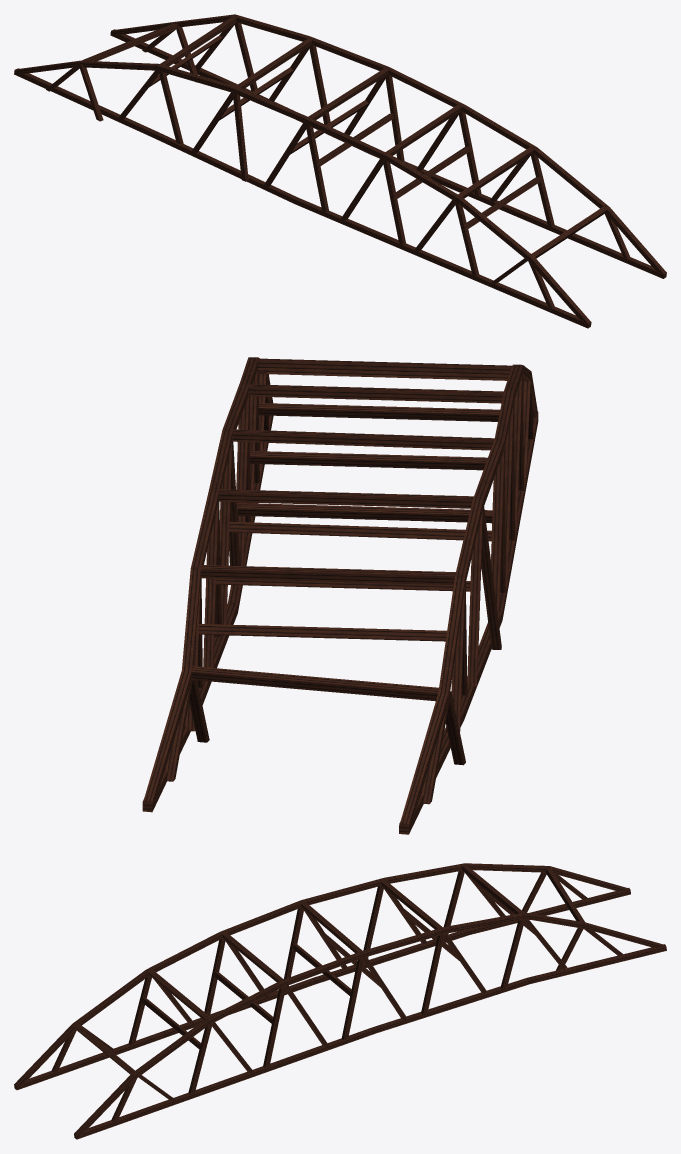
Rendered from tunnel_1.fbx.
3 views of the same model, one above another, from view 1: azimuth 30°, elevation 25°; view 2: azimuth 150°, elevation 25°; view 3: azimuth 270°, elevation 25° (orthographic). The views are drawn at different scales.
Visible parts, largest first — view 1: S2_MetalBridge; view 2: S2_MetalBridge; view 3: S2_MetalBridge.
Boxes of the visible parts, <box> form: S2_MetalBridge: <box>14,14,666,328</box>; S2_MetalBridge: <box>142,357,538,834</box>; S2_MetalBridge: <box>14,863,666,1139</box>.
Size of the model in its own units: 2496 by 921 by 4040.
